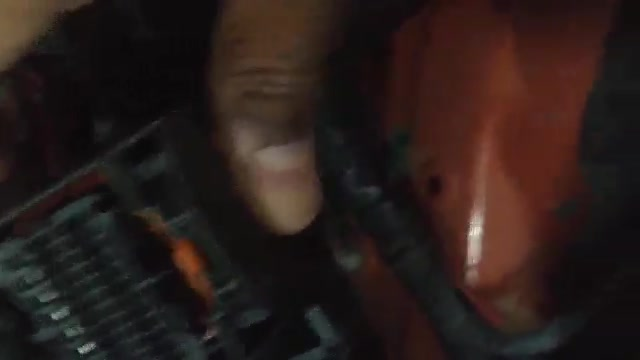connector: (2, 116, 299, 360)
